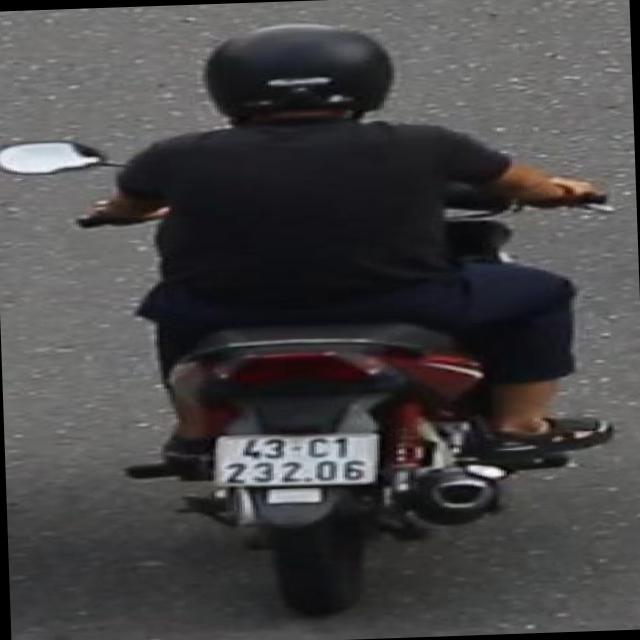LP: (208, 422, 393, 495)
helmet: (195, 13, 402, 143)
